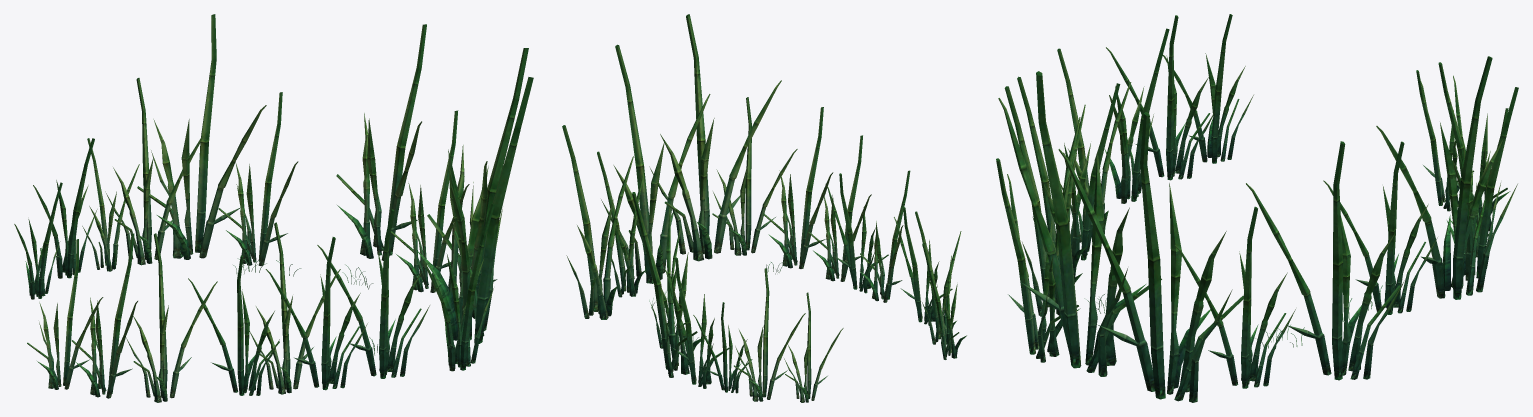
File: Area_03_7.fbx
The picture shows the model from 3 angles, left to right: view 1: azimuth 30°, elevation 25°; view 2: azimuth 150°, elevation 25°; view 3: azimuth 270°, elevation 25°; orthographic projection. The views are drawn at different scales.
Visible parts, largest first — view 1: Area_03_7; view 2: Area_03_7; view 3: Area_03_7.
Boxes of the visible parts, x1,y1,x2,y2 form: Area_03_7: [14, 14, 533, 402]; Area_03_7: [562, 14, 966, 402]; Area_03_7: [996, 14, 1518, 402].
Bounding box in the file's own units: 6299 × 3616 × 5245.
